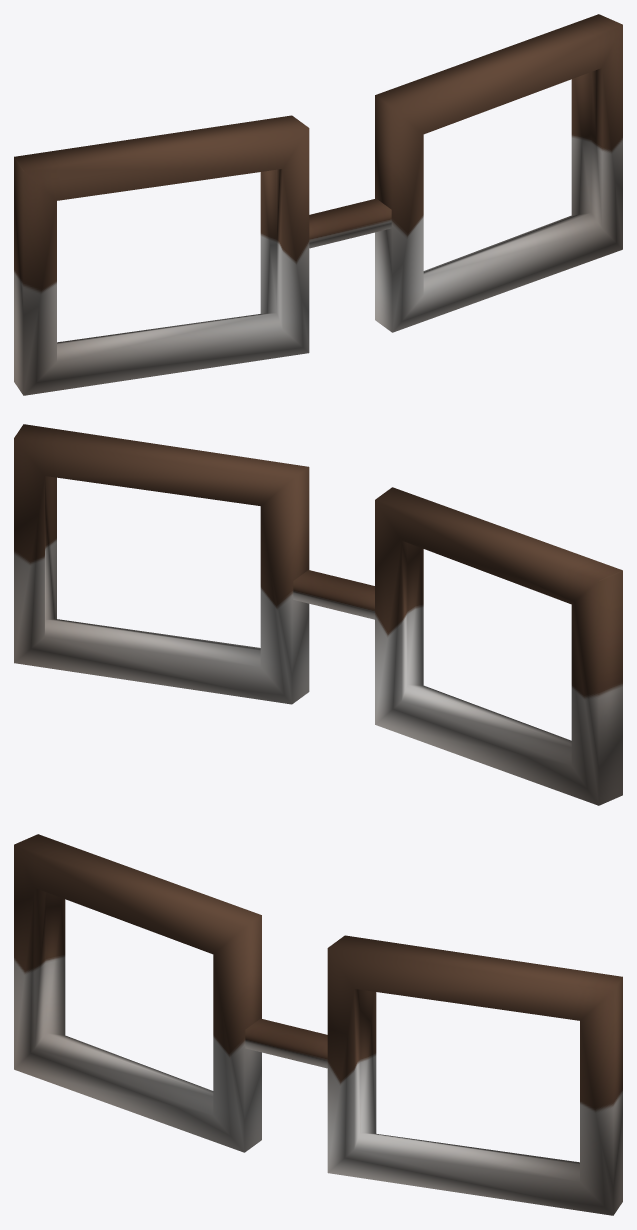
The model's file is SM_GlassesA.FBX.
3 views of the same model, one above another, from view 1: azimuth 30°, elevation 25°; view 2: azimuth 150°, elevation 25°; view 3: azimuth 330°, elevation 25° (orthographic).
Visible parts, largest first — view 1: SM_GlassesA; view 2: SM_GlassesA; view 3: SM_GlassesA.
Boxes of the visible parts, x1,y1,x2,y2 form: SM_GlassesA: (14,14,622,395); SM_GlassesA: (14,424,622,805); SM_GlassesA: (14,834,622,1215).
Bounding box in the file's own units: 86.78 × 11.73 × 31.12.
